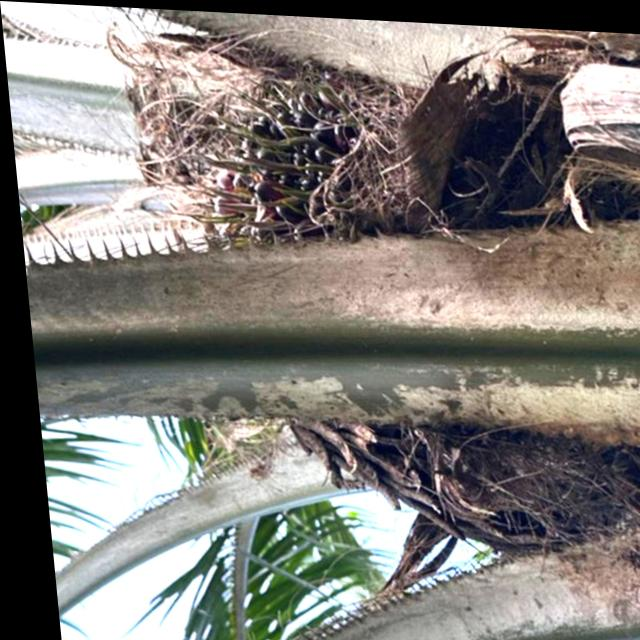ripe: (166, 60, 441, 289)
